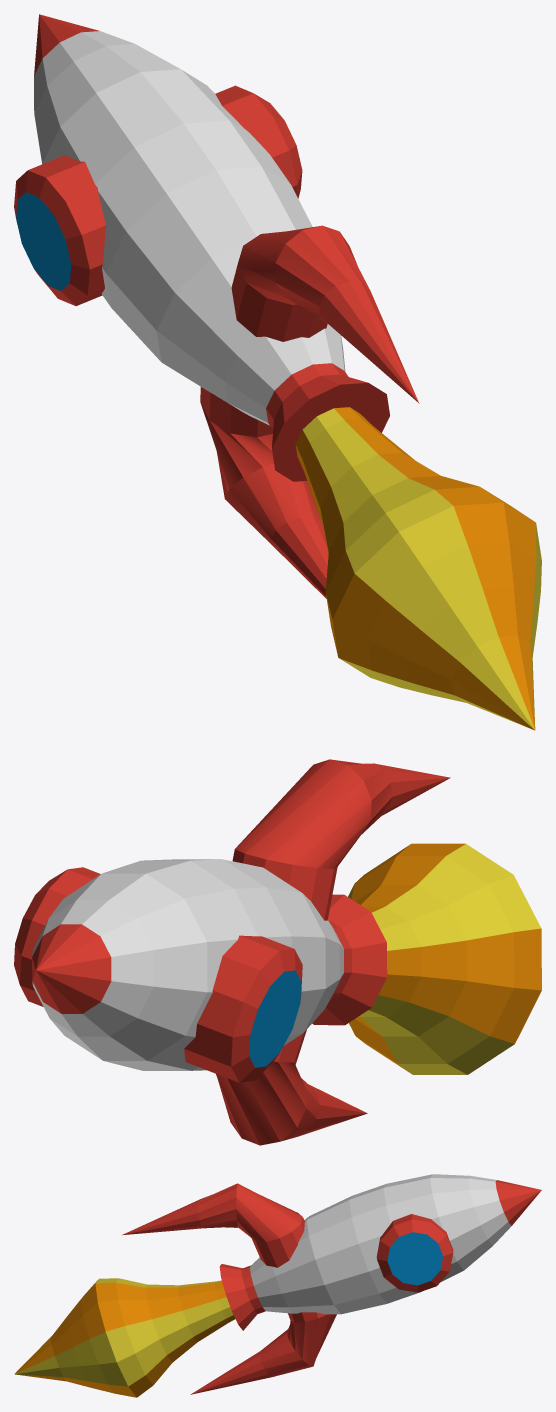
3 renders of one model, top to bottom at view 1: azimuth 30°, elevation 25°; view 2: azimuth 150°, elevation 25°; view 3: azimuth 270°, elevation 25°, orthographic. The views are drawn at different scales.
Visible parts, largest first — view 1: node_MeshObject629512192-PolyPaper21; view 2: node_MeshObject629512192-PolyPaper21; view 3: node_MeshObject629512192-PolyPaper21.
Part boxes in pixels (x1,y1,x2,y2): node_MeshObject629512192-PolyPaper21: (14,14,541,730); node_MeshObject629512192-PolyPaper21: (14,759,541,1145); node_MeshObject629512192-PolyPaper21: (14,1174,541,1397).
Size of the model in its own units: 0.2155 by 0.3409 by 0.7566.
